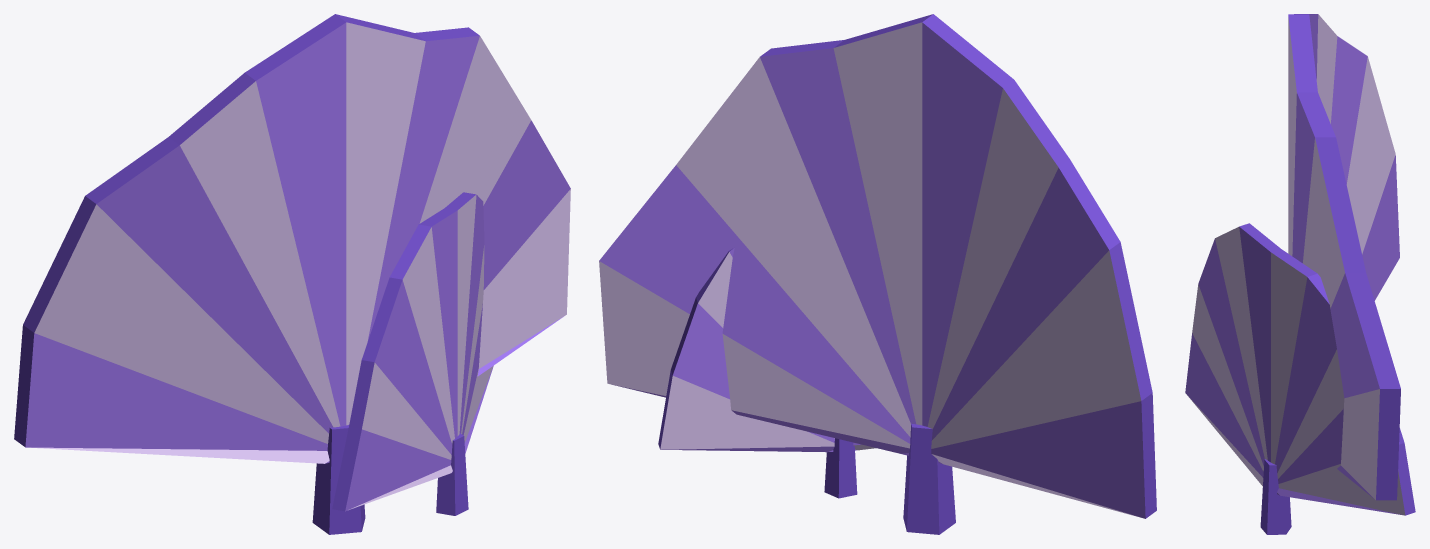
The model's file is coral_fan_purple.fbx.
The picture shows the model from 3 angles, left to right: view 1: azimuth 30°, elevation 25°; view 2: azimuth 150°, elevation 25°; view 3: azimuth 270°, elevation 25°; orthographic projection. The views are drawn at different scales.
Visible parts, largest first — view 1: coral_fan_purple; view 2: coral_fan_purple; view 3: coral_fan_purple.
Boxes of the visible parts, <box> form: coral_fan_purple: <box>14,14,570,534</box>; coral_fan_purple: <box>599,14,1156,534</box>; coral_fan_purple: <box>1185,14,1415,534</box>.
Bounding box in the file's own units: 890 × 788 × 350.
1 material, 1 textured.
